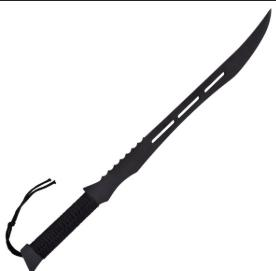MACHETTE: (11, 2, 276, 271)
